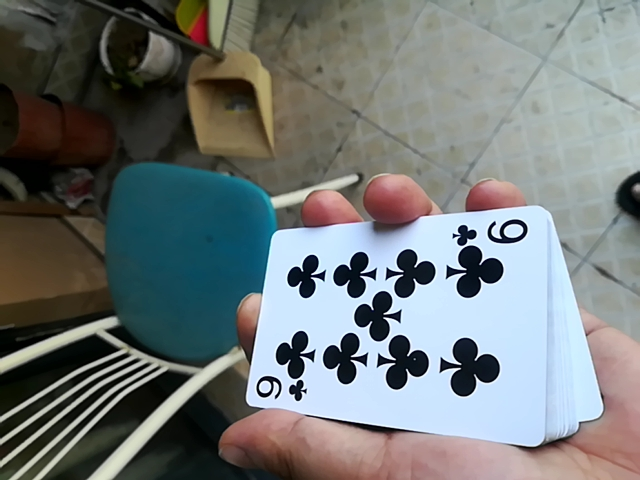mh 9: (235, 201, 597, 443)
